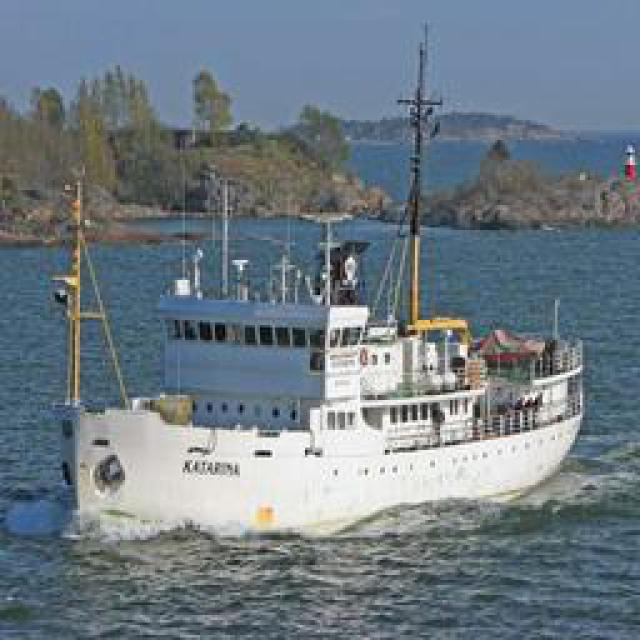Ship: (58, 34, 583, 539)
